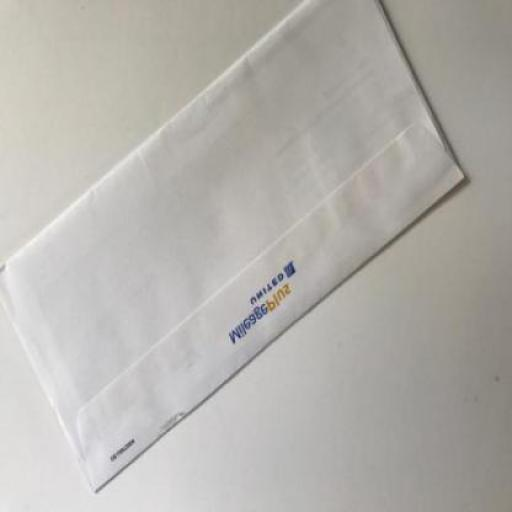paper: (0, 1, 463, 495)
